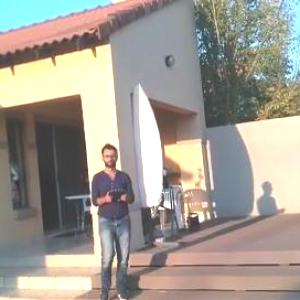follow: (88, 139, 139, 299)
